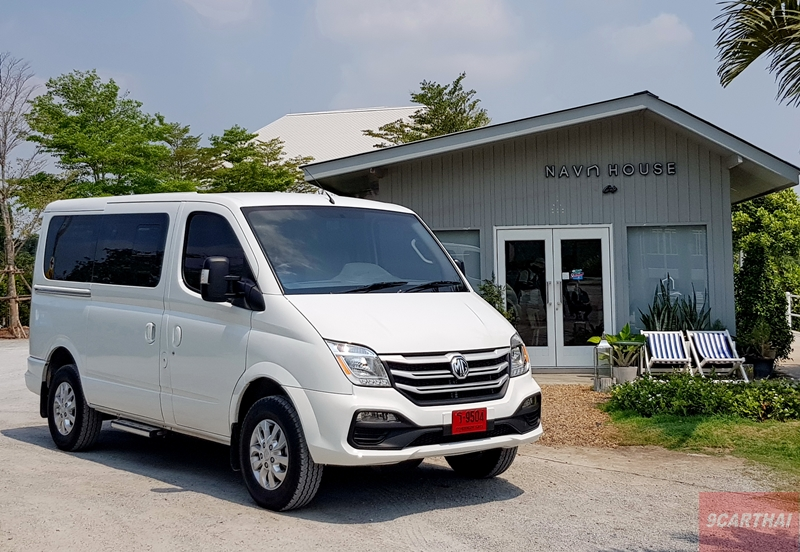van: (25, 184, 547, 514)
